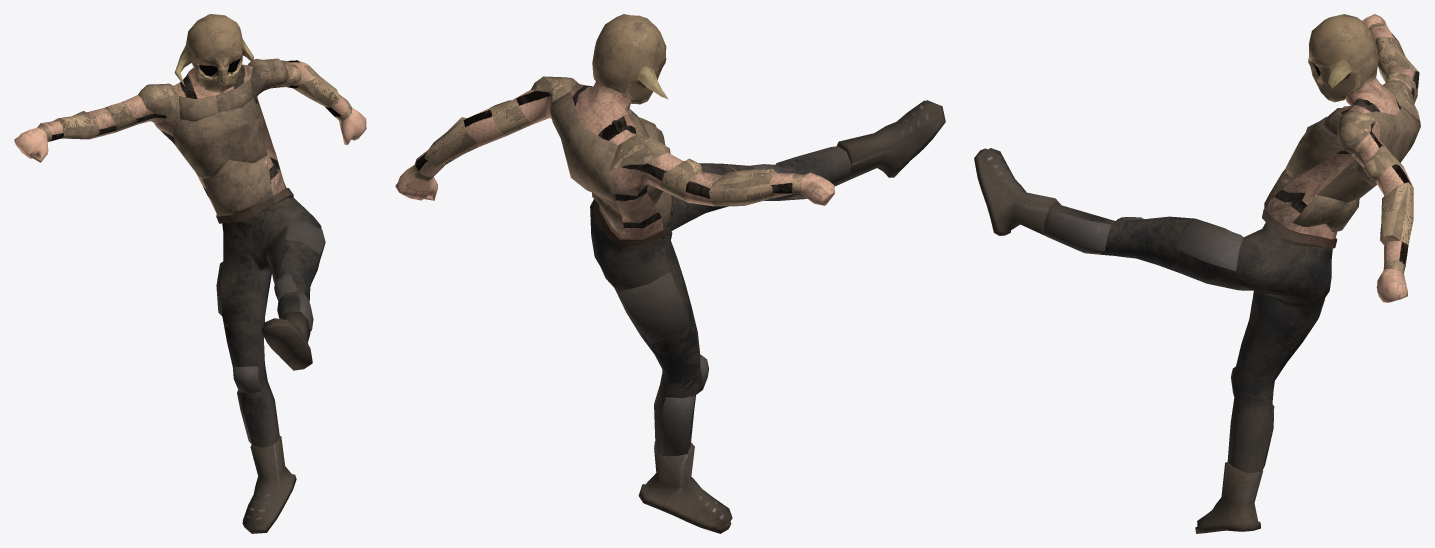
Rendered from Anim_ataque_f3_npc1.0030.obj.
3 views of the same model, side by side, from view 1: azimuth 30°, elevation 25°; view 2: azimuth 150°, elevation 25°; view 3: azimuth 270°, elevation 25° (orthographic). The views are drawn at different scales.
Parts seen in each view (by area): view 1: NPC2; view 2: NPC2; view 3: NPC2.
Part boxes in pixels (x1,y1,x2,y2): NPC2: (14,14,366,533); NPC2: (395,14,945,533); NPC2: (974,14,1420,533).
Bounding box in the file's own units: 7.63 × 9.55 × 7.34.
